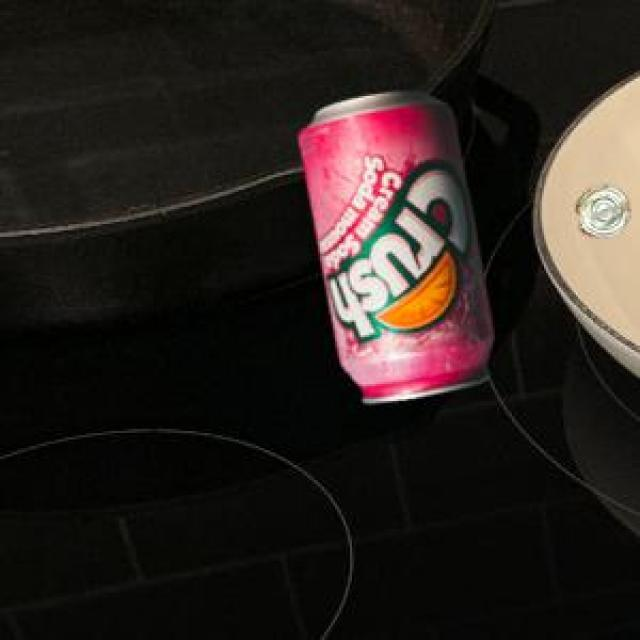Can: (295, 89, 490, 400), (573, 182, 626, 234)
